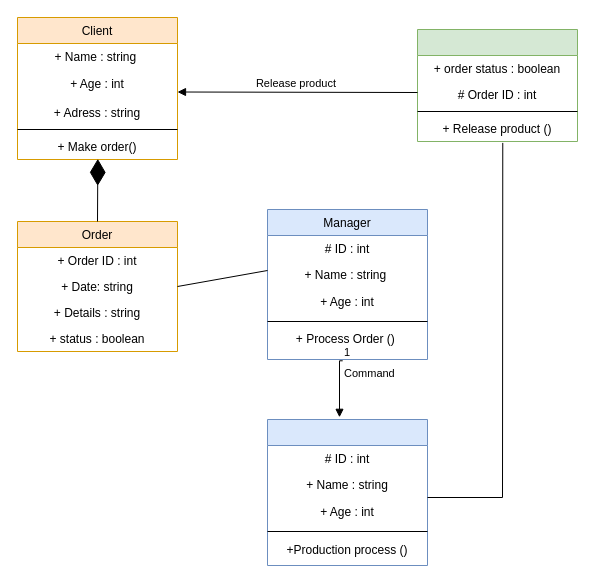
This 595x583 diagram has some shape labels left out. The box of each missing label's shape, as (x1, y1, x2, y2) in pixels:
Employer: (266, 418, 428, 566)
Release point: (416, 28, 578, 142)
